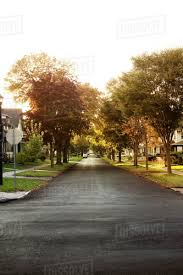strada: (0, 157, 183, 269)
